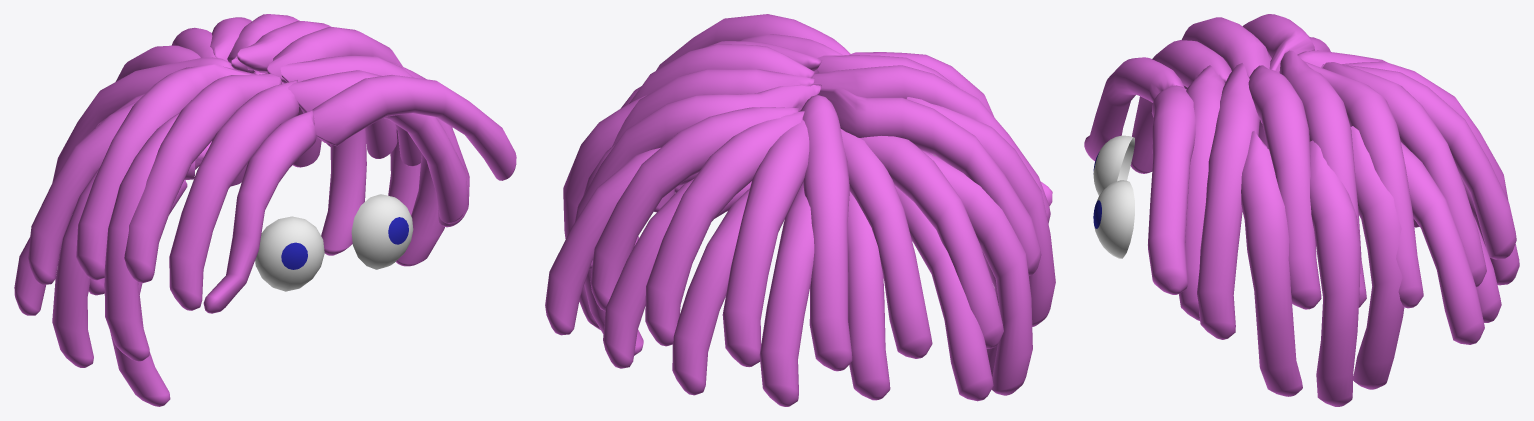
File: pembeli.fbx
The picture shows the model from 3 angles, left to right: view 1: azimuth 30°, elevation 25°; view 2: azimuth 150°, elevation 25°; view 3: azimuth 270°, elevation 25°; orthographic projection. The views are drawn at different scales.
Parts seen in each view (by area): view 1: pCylinder33, gozz, goz; view 2: pCylinder33; view 3: pCylinder33, goz, gozz.
Boxes of the visible parts, left/top/right/bottom form: pCylinder33: left=14, top=14, right=516, bottom=406; gozz: left=255, top=216, right=324, bottom=291; goz: left=351, top=194, right=413, bottom=269; pCylinder33: left=545, top=14, right=1055, bottom=406; pCylinder33: left=1084, top=14, right=1519, bottom=406; goz: left=1093, top=180, right=1134, bottom=258; gozz: left=1093, top=135, right=1134, bottom=195.
Bounding box in the file's own units: 107 × 73.92 × 94.73.
